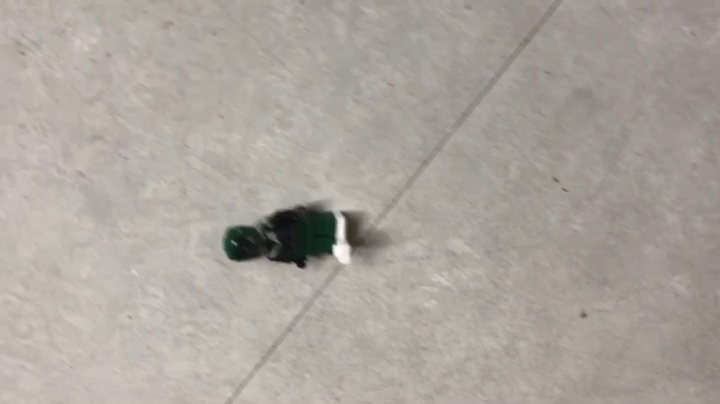people: (223, 204, 366, 271)
